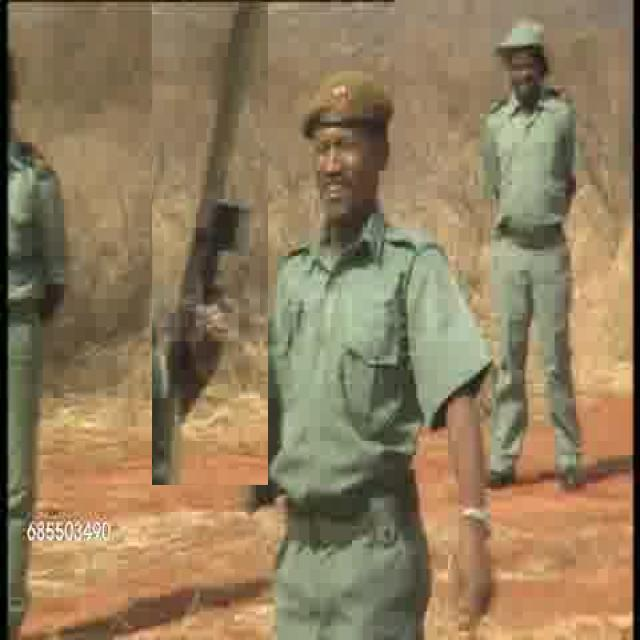poacher: (274, 68, 448, 628), (478, 16, 578, 406)
weapon: (152, 2, 268, 485)
